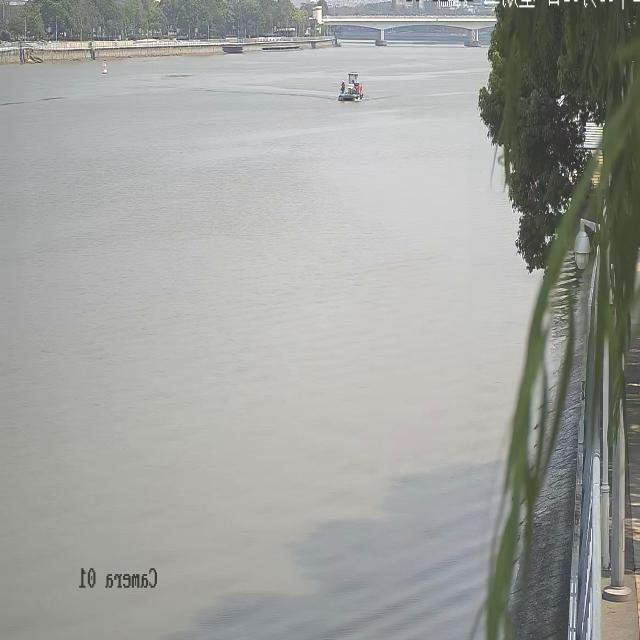ship: (339, 71, 364, 100)
